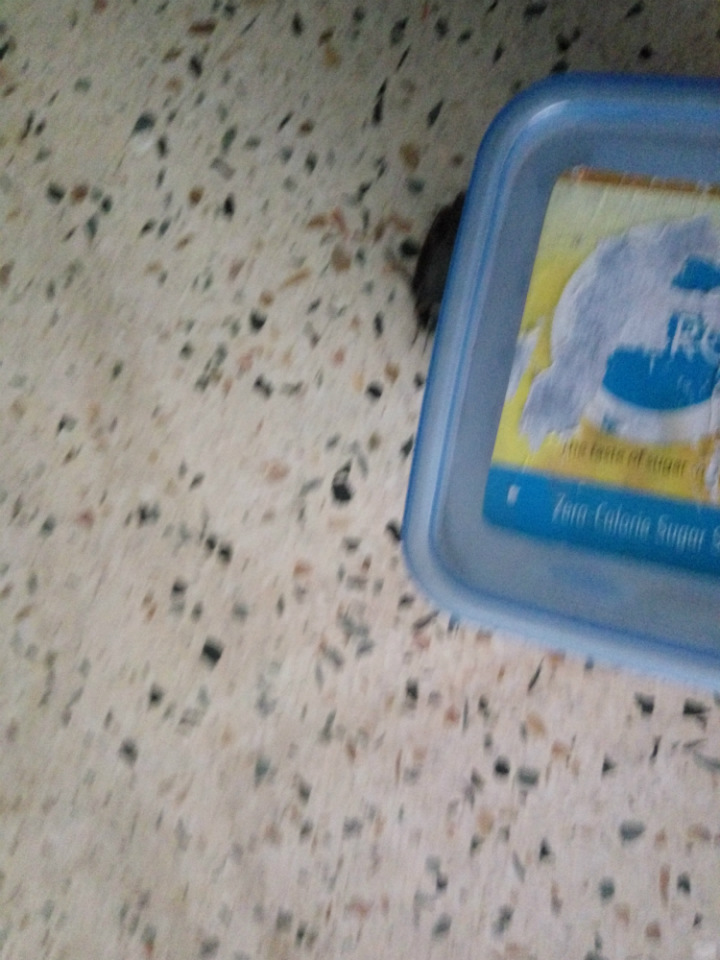cockroach: (394, 163, 472, 343)
